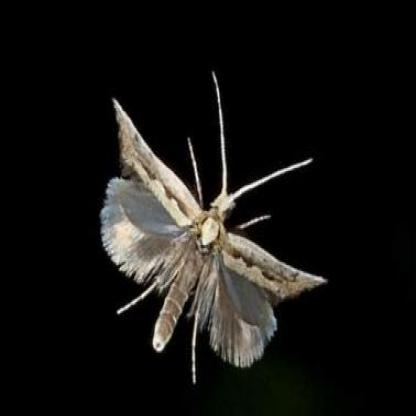plutella: (103, 97, 325, 370)
